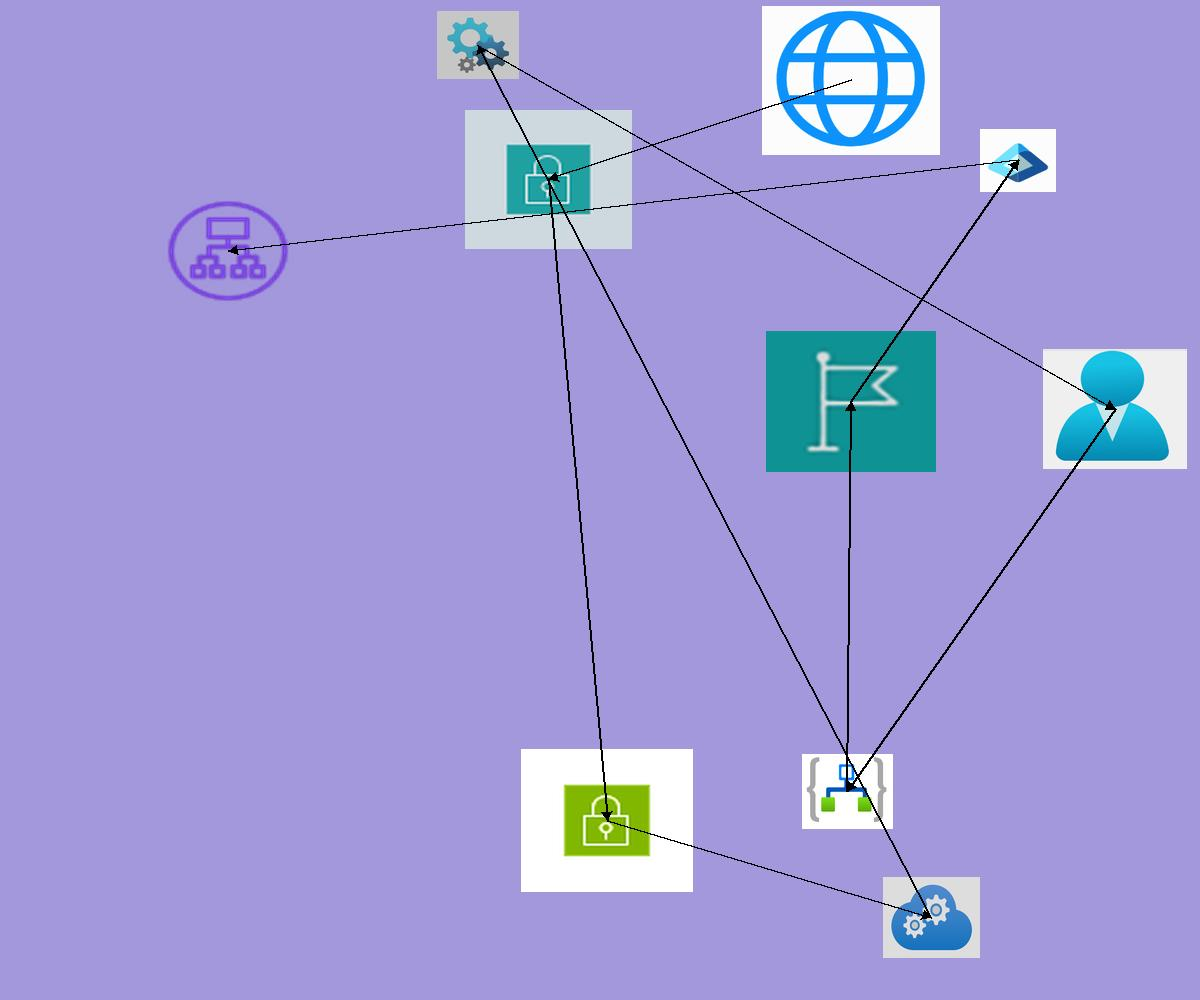AWS-Private-subnet: (465, 110, 632, 249)
AWS-Public-subnet: (521, 749, 693, 892)
AWS-Region: (766, 331, 936, 472)
AWS-Res_Elastic-Load-Balancing_Application-Load-Balancer: (163, 197, 293, 305)
Azure_api: (437, 11, 519, 79)
Azure_cloud_services: (883, 877, 980, 958)
Azure_http: (762, 6, 940, 155)
Azure_integration-204-Logic-Apps: (802, 754, 893, 829)
Azure_microsoft_entra: (980, 129, 1056, 192)
Azure_users: (1043, 349, 1187, 469)
